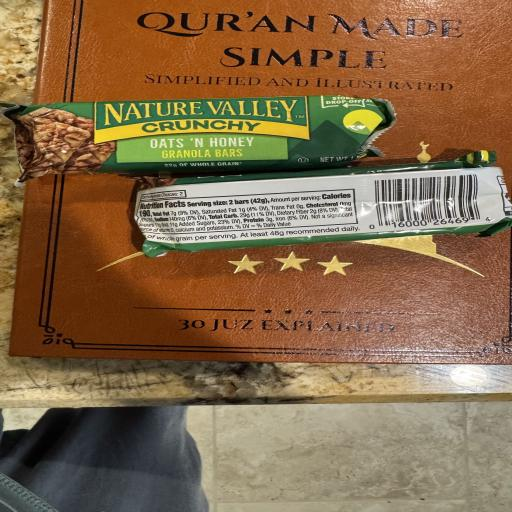granola: (136, 151, 511, 256), (3, 96, 395, 181)
